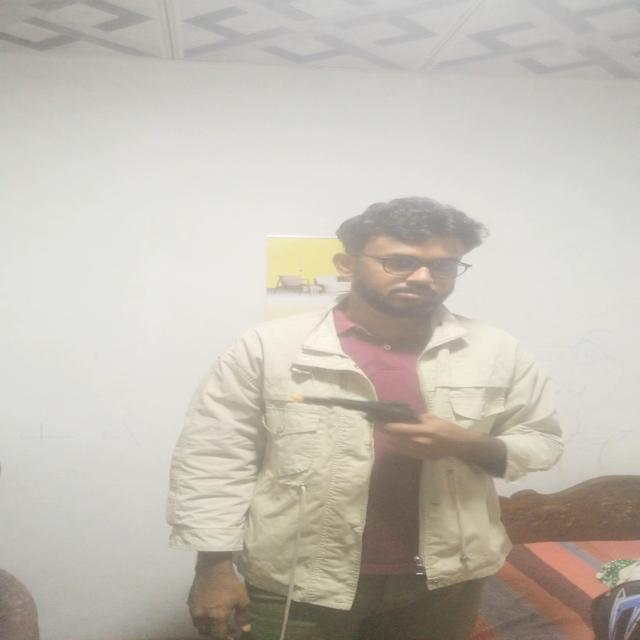Gun_Holder: (286, 390, 470, 458)
Jacket_Wearer: (148, 304, 566, 590)
Person: (156, 196, 562, 640)
